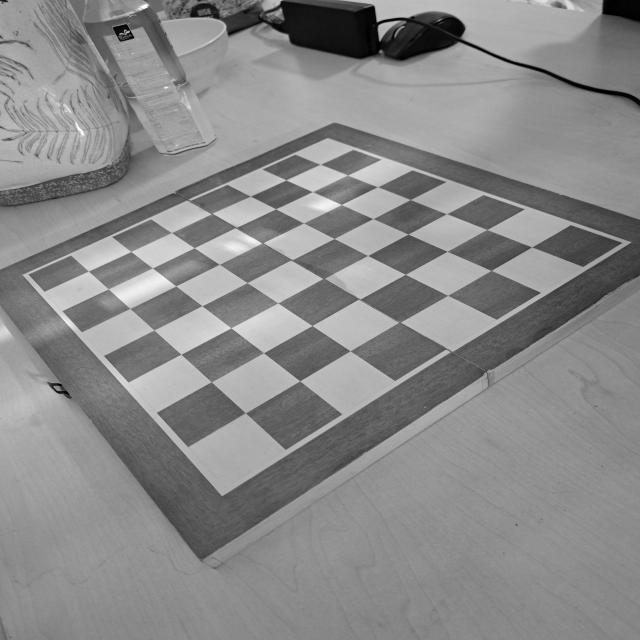chess-table-corners: (203, 474, 246, 502), (16, 266, 44, 284), (610, 236, 632, 251), (320, 136, 336, 145)
